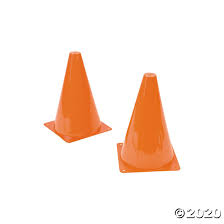cones: (117, 74, 179, 172), (47, 51, 113, 141)
